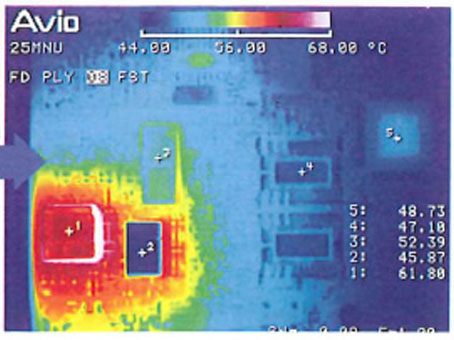componente_T: (29, 167, 204, 331), (218, 13, 271, 26)
